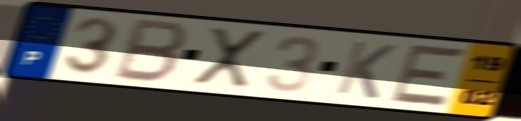3: (61, 15, 121, 78), (265, 35, 321, 94)
B: (109, 17, 193, 86)
E: (386, 42, 470, 109)
K: (332, 38, 399, 101)
X: (191, 25, 269, 90)
